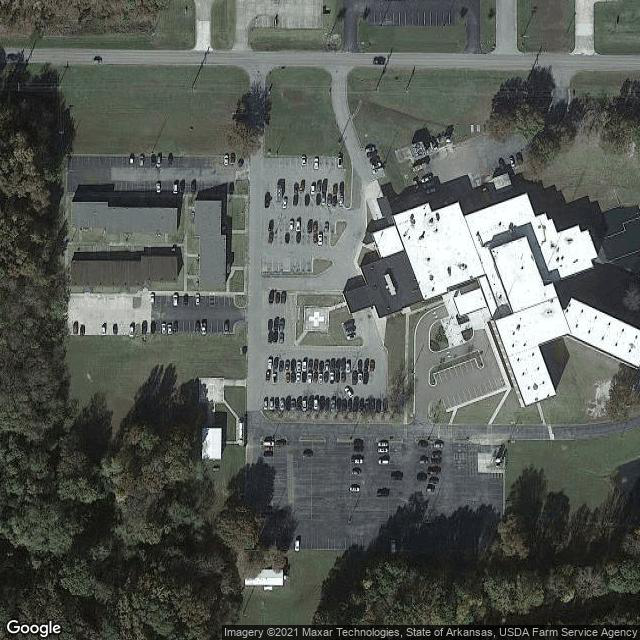Helipad: (302, 303, 331, 334)
